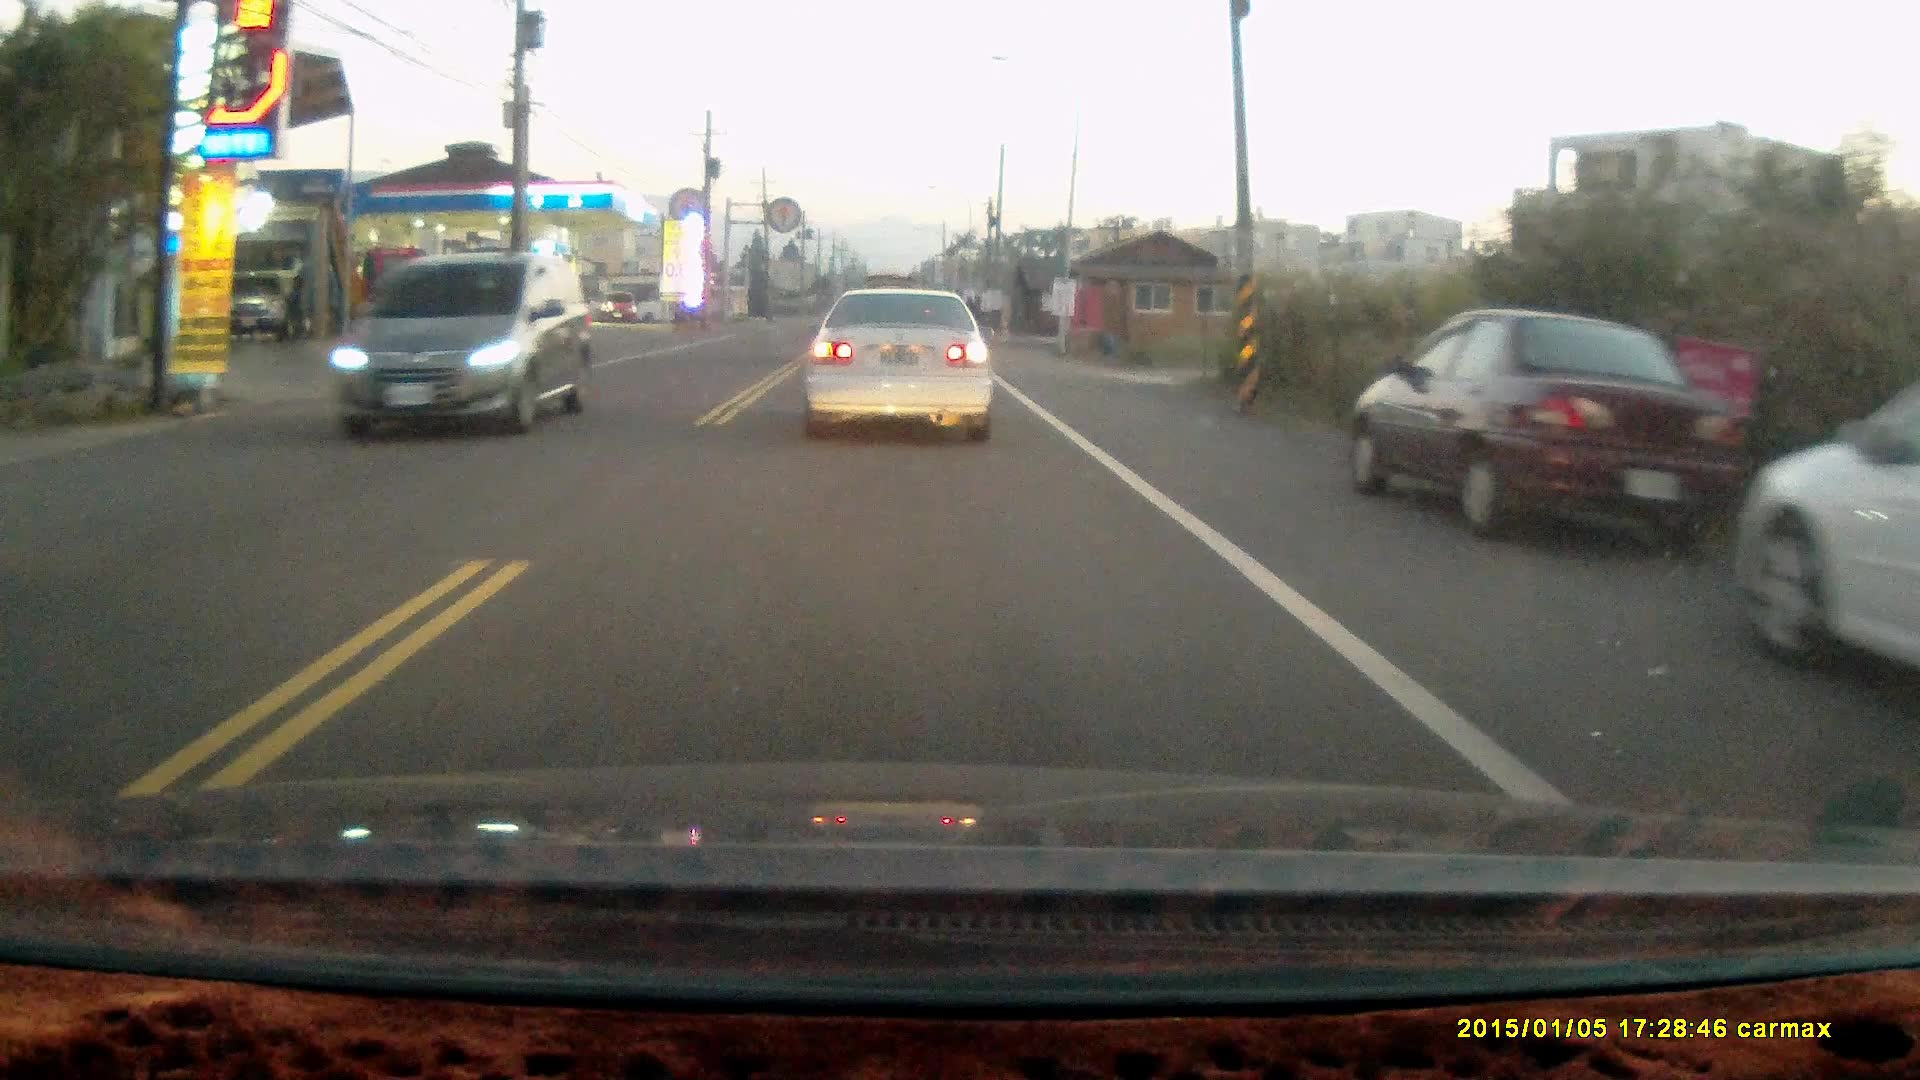vehicle: (1349, 305, 1763, 541), (1731, 382, 1920, 687), (335, 255, 593, 434), (796, 284, 996, 444)
